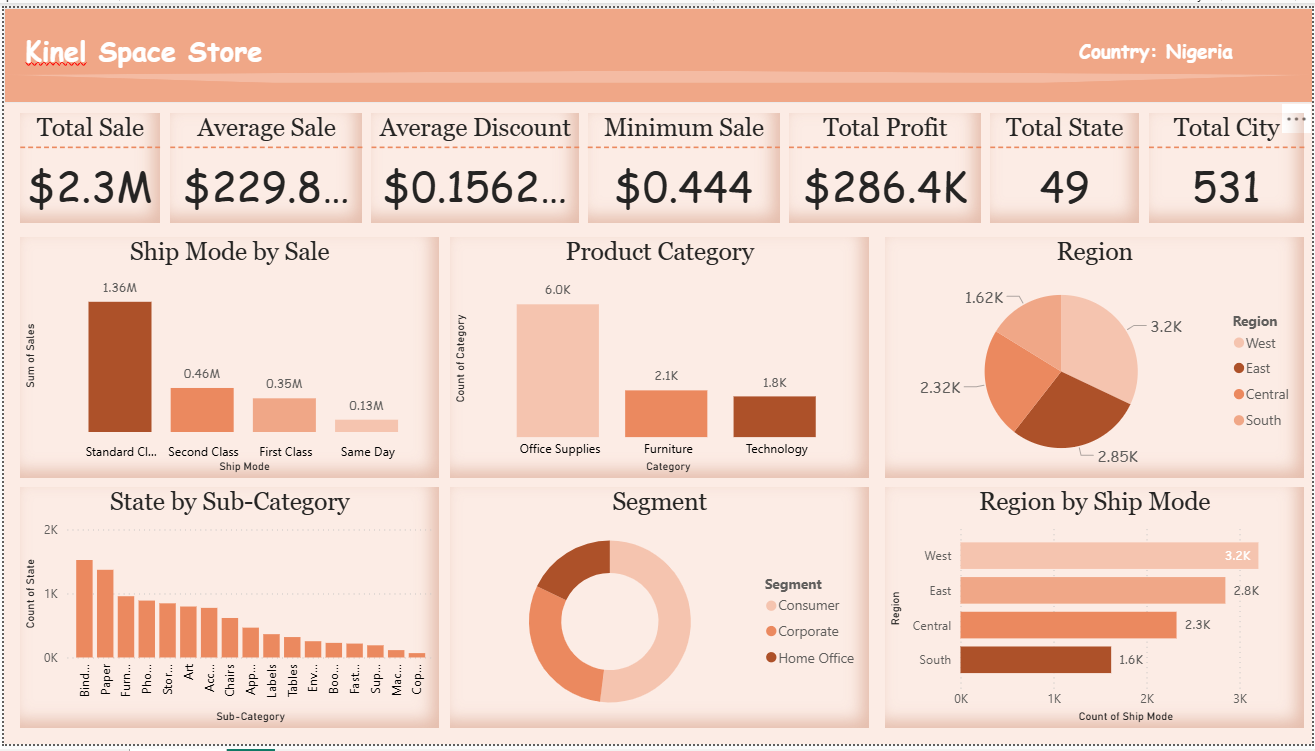

The dashboard page shown, as its layout file describes it:
{"tool":"powerbi","page":{"name":"Page 2","canvas":[1280,720],"ordinal":1},"visuals":[{"type":"shape","box":[0,0,1280.3,92.9],"z":0},{"type":"card","title":"Total Sale","fields":{"Values":["SampleSuperstore(1).Total Sale"]},"box":[15.9,102.7,137,107.6],"z":1000},{"type":"shape","box":[0,61.1,1280.3,12.2],"z":2000},{"type":"textbox","box":[15.9,17.1,413.3,59.9],"z":3000},{"type":"card","title":"Average Sale","fields":{"Values":["SampleSuperstore(1).Average"]},"box":[162.6,102.7,188.3,107.6],"z":4000},{"type":"card","title":"Average Discount","fields":{"Values":["SampleSuperstore(1).Average Discount"]},"box":[359.5,102.7,203,107.6],"z":5000},{"type":"card","title":"Minimum Sale","fields":{"Values":["SampleSuperstore(1).Minimum"]},"box":[571.1,102.7,188.3,107.6],"z":6000},{"type":"card","title":"Total Profit","fields":{"Values":["SampleSuperstore(1).Average Profit"]},"box":[767.9,102.7,188.3,107.6],"z":7000},{"type":"card","title":"Total State","fields":{"Values":["Count(SampleSuperstore(1).State)"]},"box":[964.8,102.7,145.5,107.6],"z":8000},{"type":"card","title":"Total City","fields":{"Values":["SampleSuperstore(1).Total City"]},"box":[1120.1,102.7,151.6,107.6],"z":9000},{"type":"textbox","box":[1046.7,23.2,225,59.9],"z":10000},{"type":"columnChart","title":"Ship Mode by Sale","fields":{"Category":["SampleSuperstore(1).Ship Mode"],"Y":["Sum(SampleSuperstore(1).Sales)"]},"box":[15.9,223.8,409.6,236],"z":11000},{"type":"columnChart","title":"Product Category","fields":{"Category":["SampleSuperstore(1).Category"],"Y":["CountNonNull(SampleSuperstore(1).Category)"]},"box":[436.6,223.8,409.6,236],"z":12000},{"type":"pieChart","title":"Region","fields":{"Category":["SampleSuperstore(1).Region"],"Y":["CountNonNull(SampleSuperstore(1).Region)"]},"box":[862.1,223.8,409.6,236],"z":13000},{"type":"columnChart","title":"State by Sub-Category","fields":{"Category":["SampleSuperstore(1).Sub-Category"],"Y":["CountNonNull(SampleSuperstore(1).State)"]},"box":[15.9,468.3,409.6,236],"z":14000},{"type":"donutChart","title":"Segment","fields":{"Category":["SampleSuperstore(1).Segment"],"Y":["CountNonNull(SampleSuperstore(1).Segment)"]},"box":[436.6,468.3,409.6,236],"z":15000},{"type":"barChart","title":"Region by Ship Mode","fields":{"Category":["SampleSuperstore(1).Region"],"Y":["CountNonNull(SampleSuperstore(1).Ship Mode)"]},"box":[862.1,468.3,409.6,236],"z":16000}]}

Visuals, with their boxes in screenshot pixels (x1, y1, x2, y2), scaled from the page's 1280x720 canvas onto the 1315x751 screenshot:
shape: bbox=(0, 0, 1314, 97)
"Total Sale" card: bbox=(16, 107, 157, 219)
shape: bbox=(0, 64, 1314, 76)
textbox: bbox=(16, 18, 441, 80)
"Average Sale" card: bbox=(167, 107, 360, 219)
"Average Discount" card: bbox=(369, 107, 578, 219)
"Minimum Sale" card: bbox=(587, 107, 780, 219)
"Total Profit" card: bbox=(789, 107, 982, 219)
"Total State" card: bbox=(991, 107, 1141, 219)
"Total City" card: bbox=(1151, 107, 1306, 219)
textbox: bbox=(1075, 24, 1306, 87)
"Ship Mode by Sale" columnChart: bbox=(16, 233, 437, 480)
"Product Category" columnChart: bbox=(449, 233, 869, 480)
"Region" pieChart: bbox=(886, 233, 1306, 480)
"State by Sub-Category" columnChart: bbox=(16, 488, 437, 735)
"Segment" donutChart: bbox=(449, 488, 869, 735)
"Region by Ship Mode" barChart: bbox=(886, 488, 1306, 735)
